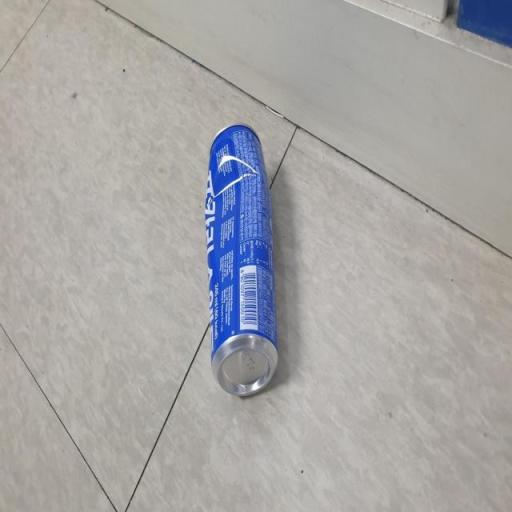metal: (191, 102, 292, 428)
